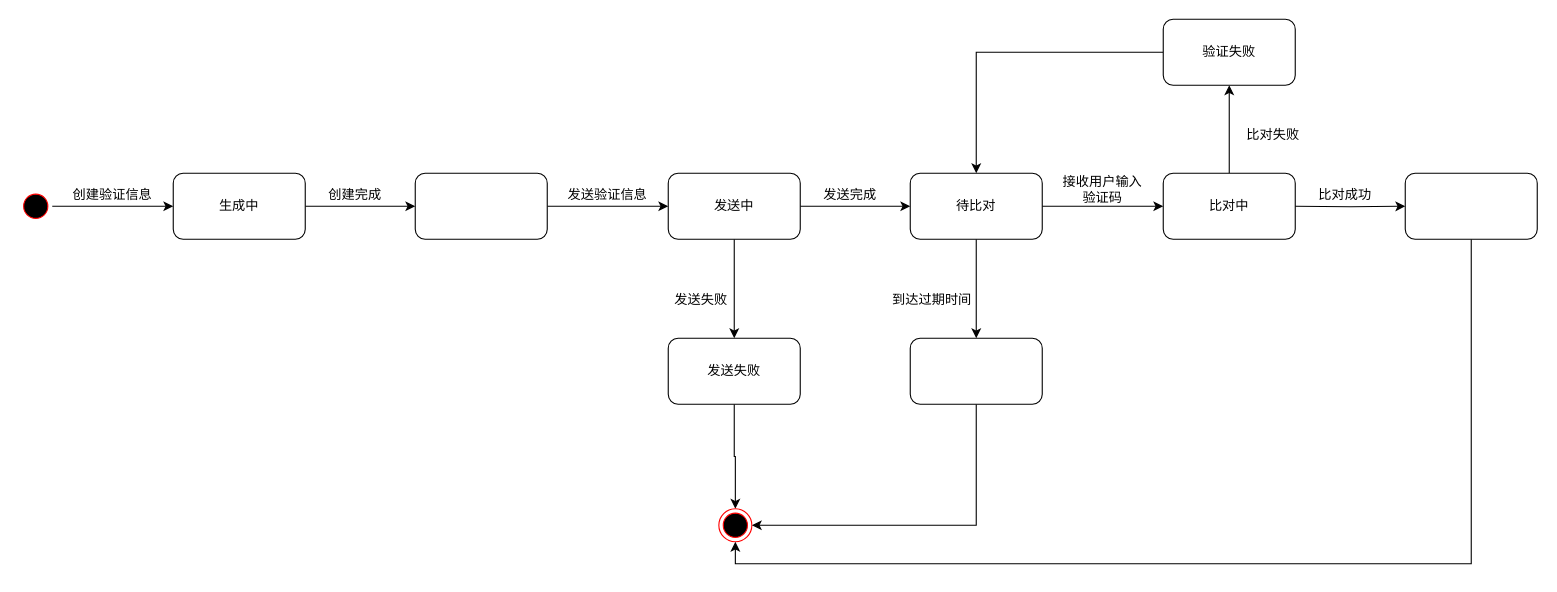
The diagram is 1557 pixels wide and 592 high, and some of its shapes have lost their labels. Here are the shapes that lost their labels. From the top down, the centre of each, then its label:
At point (480, 205): "创建成功".
At point (1470, 205): "验证成功".
At point (975, 370): "已过期".
